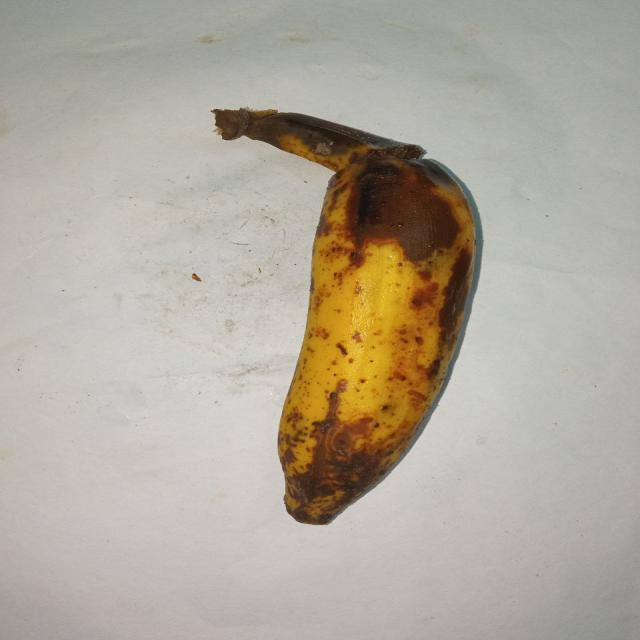rotten_banana: (215, 105, 479, 524)
